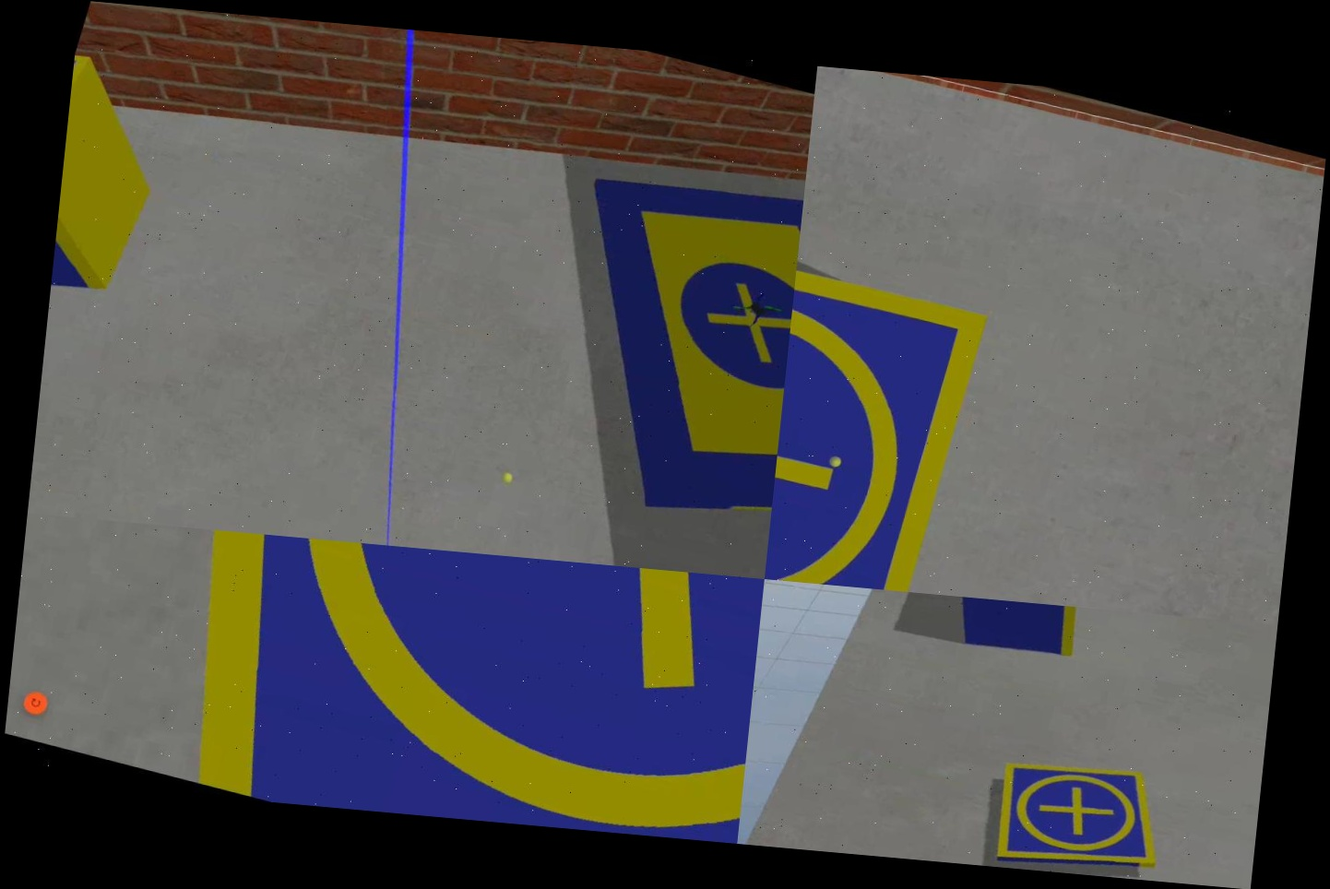large_base: (498, 136, 808, 569)
small_base: (49, 517, 765, 843), (765, 228, 995, 597), (976, 736, 1184, 882)
